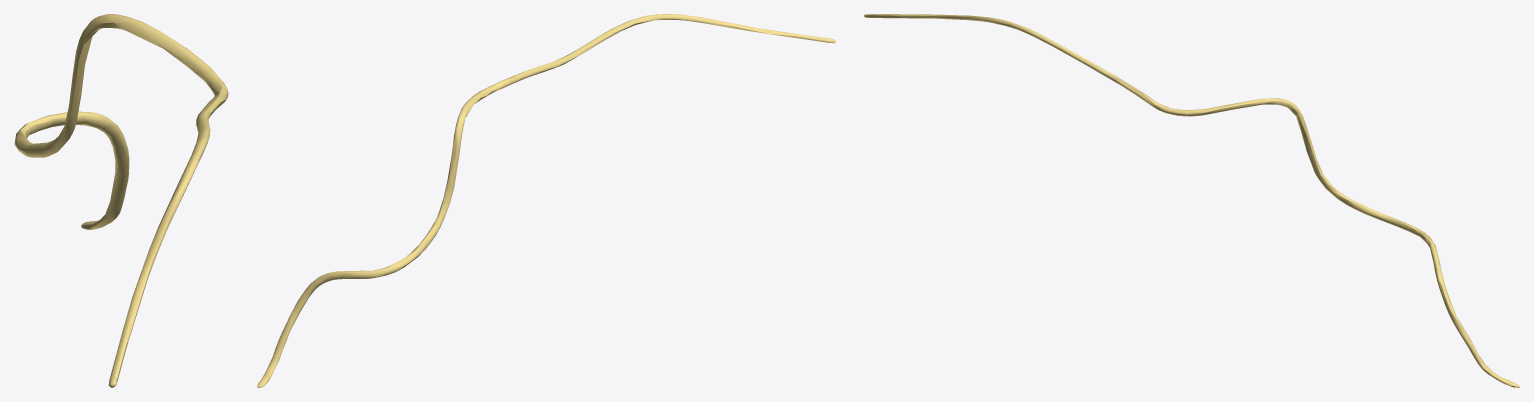
File: fma50886_fj3891.glb
The picture shows the model from 3 angles, left to right: view 1: azimuth 30°, elevation 25°; view 2: azimuth 150°, elevation 25°; view 3: azimuth 270°, elevation 25°; orthographic projection. The views are drawn at different scales.
Visible parts, largest first — view 1: FMA50886_FJ3891; view 2: FMA50886_FJ3891; view 3: FMA50886_FJ3891.
Boxes of the visible parts, x1,y1,x2,y2 form: FMA50886_FJ3891: (14, 14, 228, 387); FMA50886_FJ3891: (257, 14, 835, 387); FMA50886_FJ3891: (864, 14, 1519, 387).
Bounding box in the file's own units: 0.0315 × 0.0261 × 0.0568.
